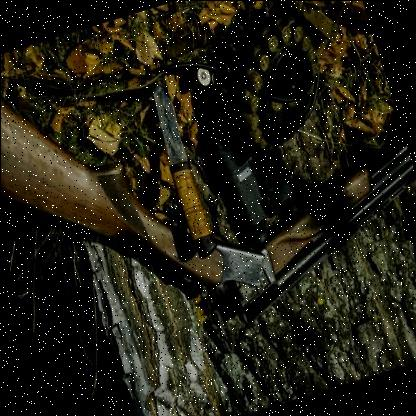rifle: (0, 0, 416, 378)
